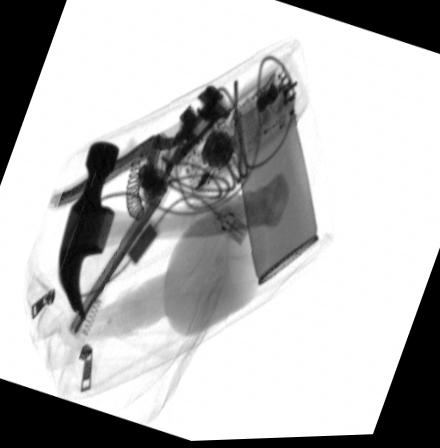Hammer: (56, 142, 290, 319)
Pliers: (46, 83, 231, 337)
